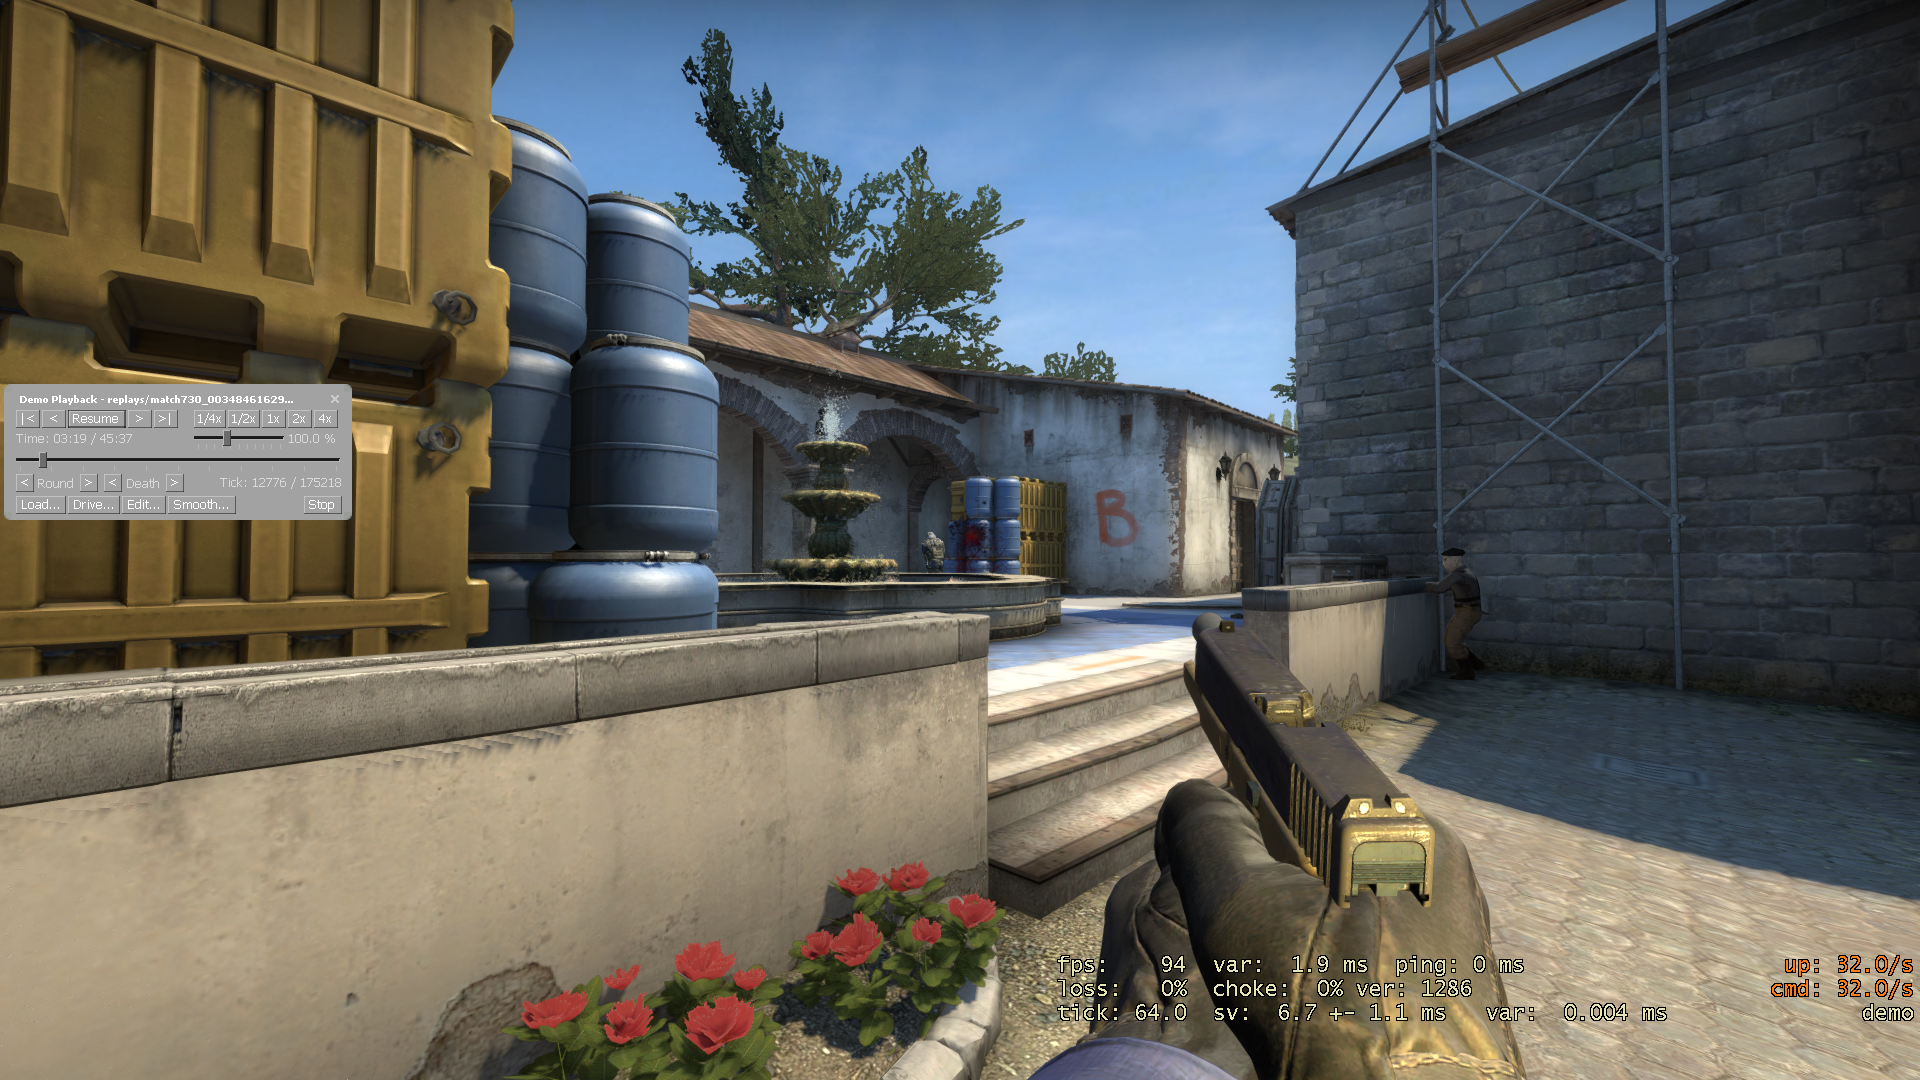ct: (920, 531, 945, 572)
t: (1429, 549, 1484, 680)
